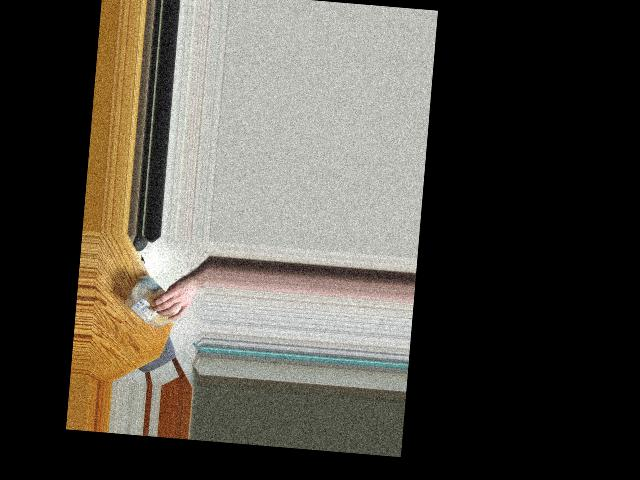cheese: (121, 274, 188, 331)
